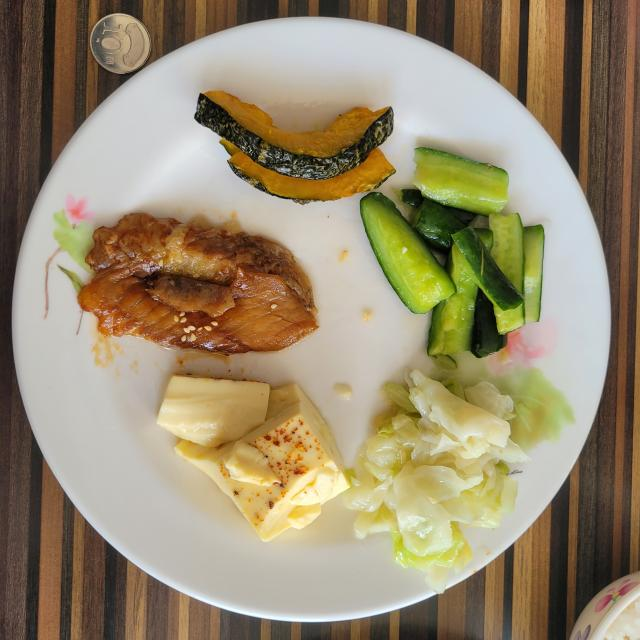Kabayaki sea bream fillet: (78, 214, 318, 354)
cabbage: (344, 370, 529, 594)
coin: (90, 14, 151, 74)
cucumber: (360, 148, 544, 356)
pumpkin: (195, 91, 395, 202)
